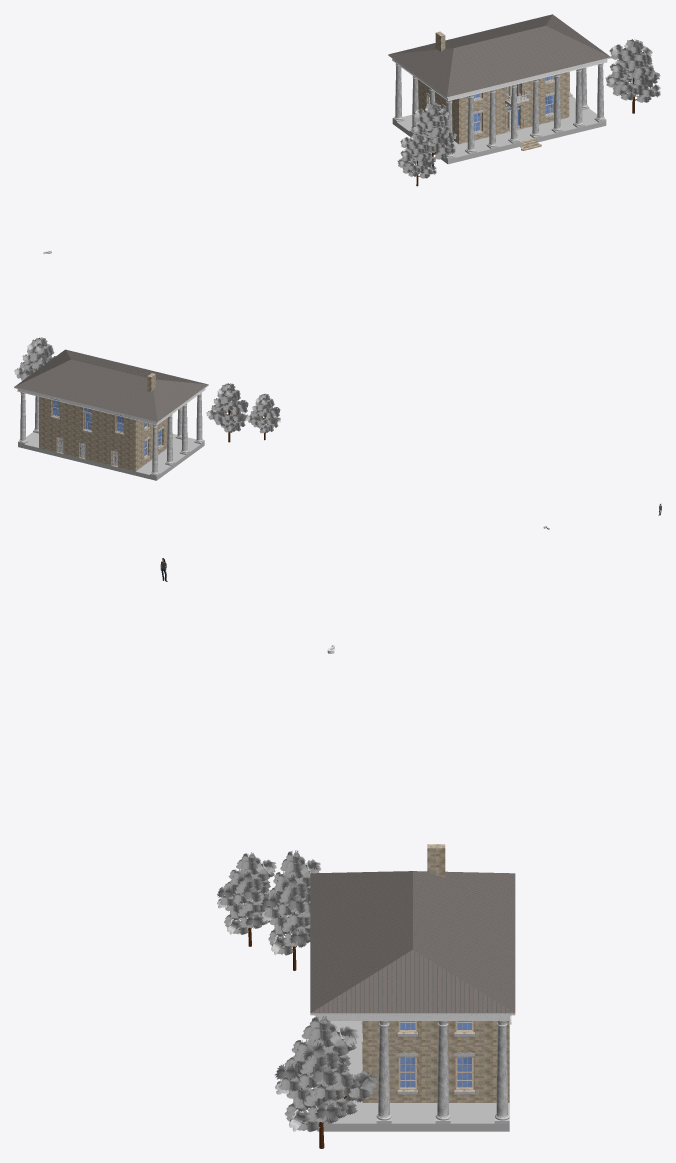
The picture shows the model from 3 angles, top to bottom: view 1: azimuth 30°, elevation 25°; view 2: azimuth 150°, elevation 25°; view 3: azimuth 270°, elevation 25°; orthographic projection. The views are drawn at different scales.
Parts seen in each view (by area): view 1: group_8, group_2, group_0, group_4, group_6; view 2: group_8, group_0, group_4, group_2, group_6 (×2), group_3; view 3: group_8, group_2, group_0, Column (×3), group_4, group_6.
Boxes of the visible parts, x1,y1,x2,y2 form: group_8: (388, 14, 610, 97); group_2: (392, 96, 606, 164); group_0: (418, 84, 569, 144); group_4: (418, 72, 569, 110); group_6: (392, 59, 607, 100); group_8: (14, 349, 208, 421); group_0: (39, 421, 167, 471); group_4: (39, 397, 167, 442); group_2: (18, 432, 204, 480); group_6 (×2): (14, 384, 208, 424); group_3: (39, 419, 167, 444); group_8: (310, 871, 515, 1013); group_2: (317, 1021, 509, 1131); group_0: (362, 1049, 509, 1102); Column (×3): (378, 1026, 508, 1117); group_4: (362, 1021, 509, 1045); group_6: (315, 1015, 510, 1019).
Size of the model in its own units: 3693 by 936 by 504.
